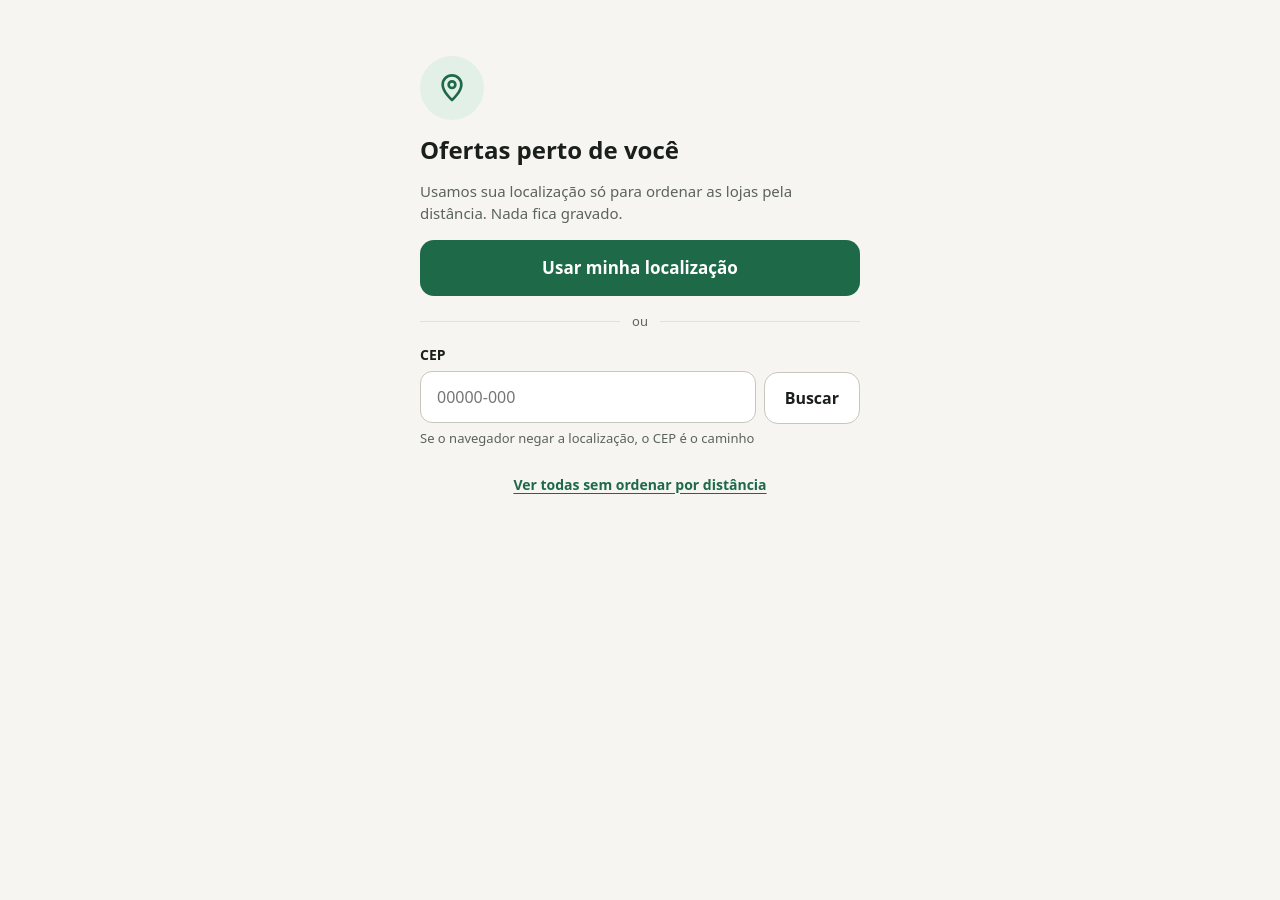
Scenario: C1 · Localização › CEP encontrado: vitrine ordenada por distância, com lat/lng na consulta e o bairro no botão
Type "15025-000" into the field labelled "CEP" at x=592, y=397, box [435,372,749,422]
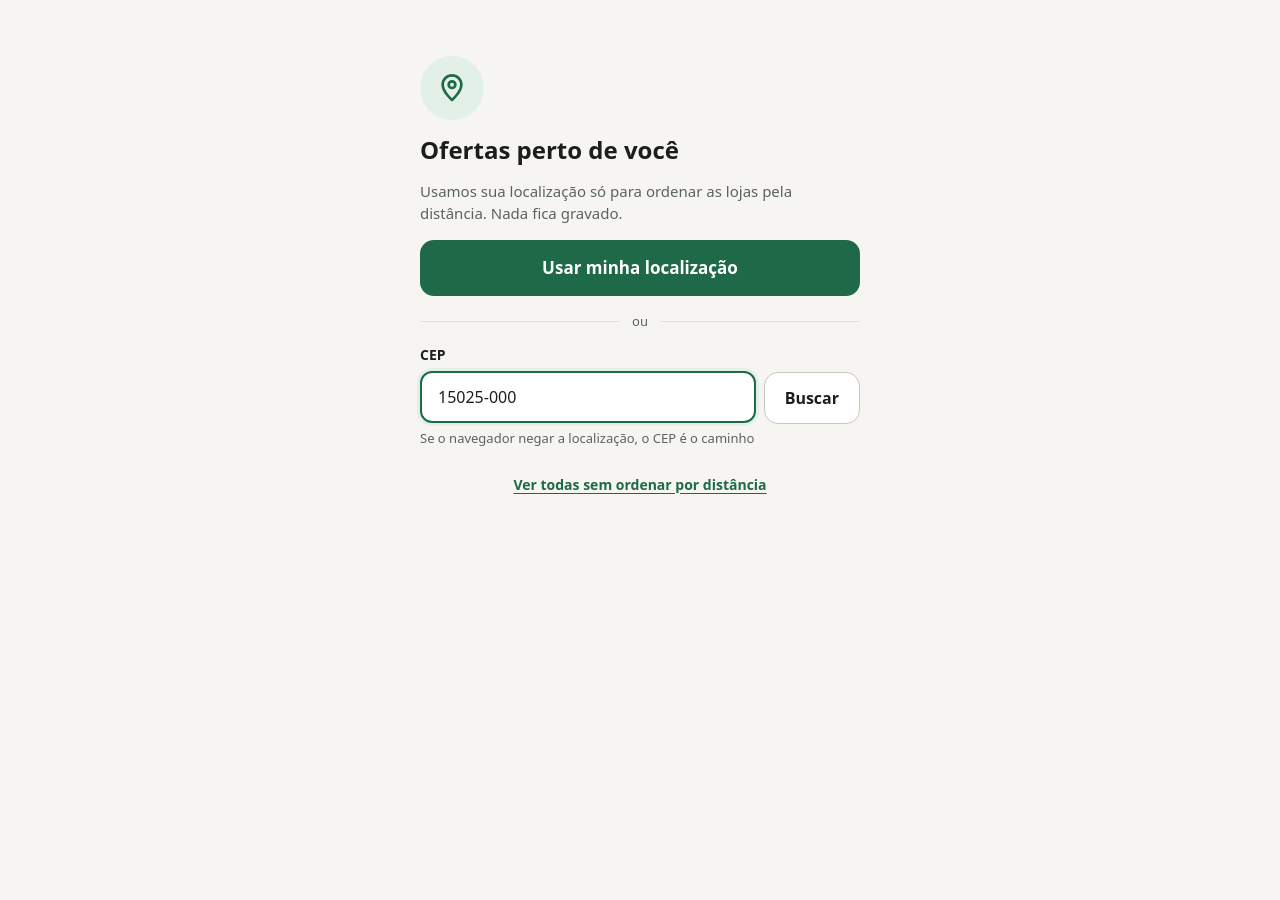
Click the button "Buscar" at x=812, y=398, box [764,372,860,424]
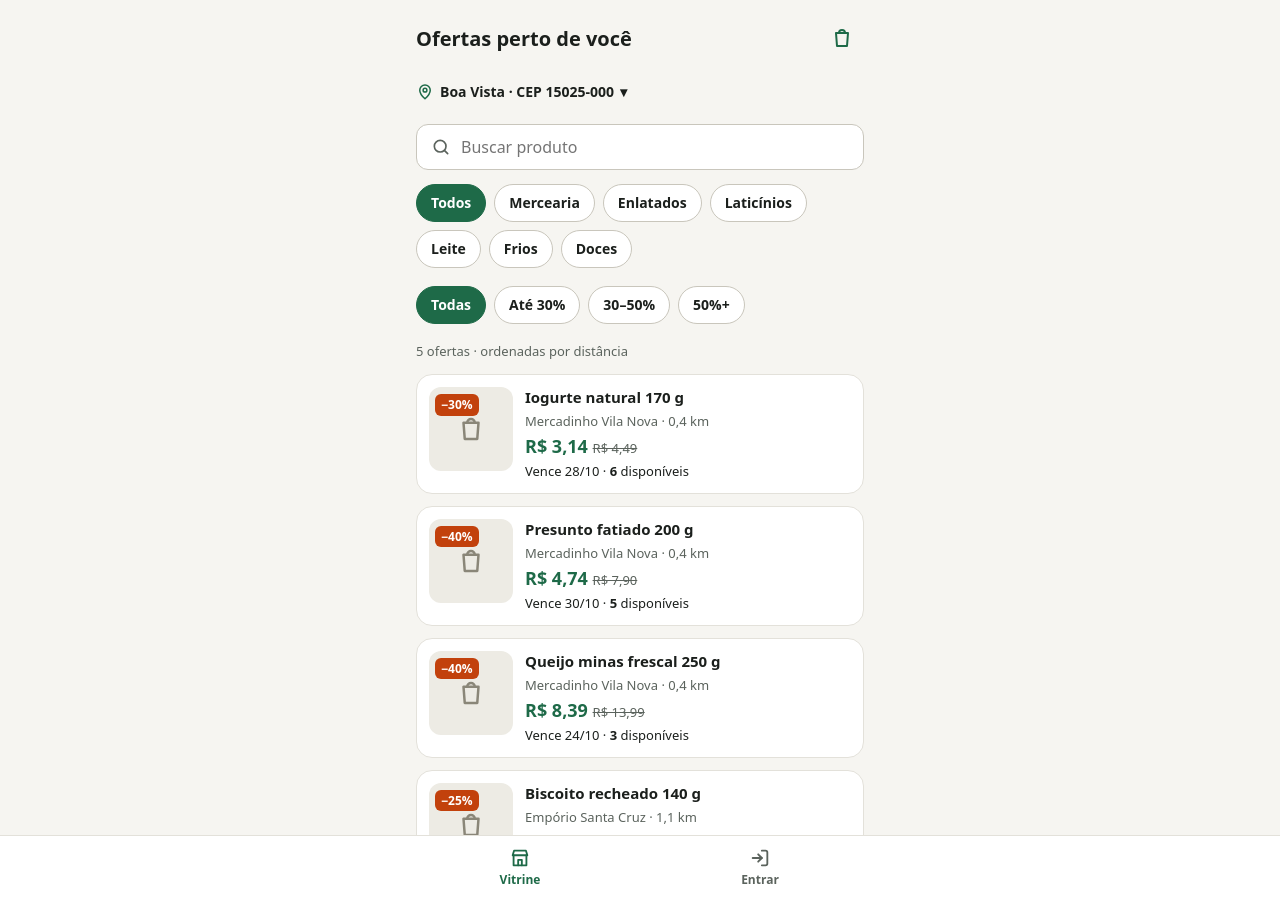
Check: the text "5 ofertas · ordenadas por distância" is shown, box [416,342,628,360]
Check: the link "Boa Vista · CEP 15025-000 ▾" is shown, box [416,82,627,101]
Check: the link "Iogurte" shows "Mercadinho Vila Nova · 0,4 km", box [416,374,864,494]
